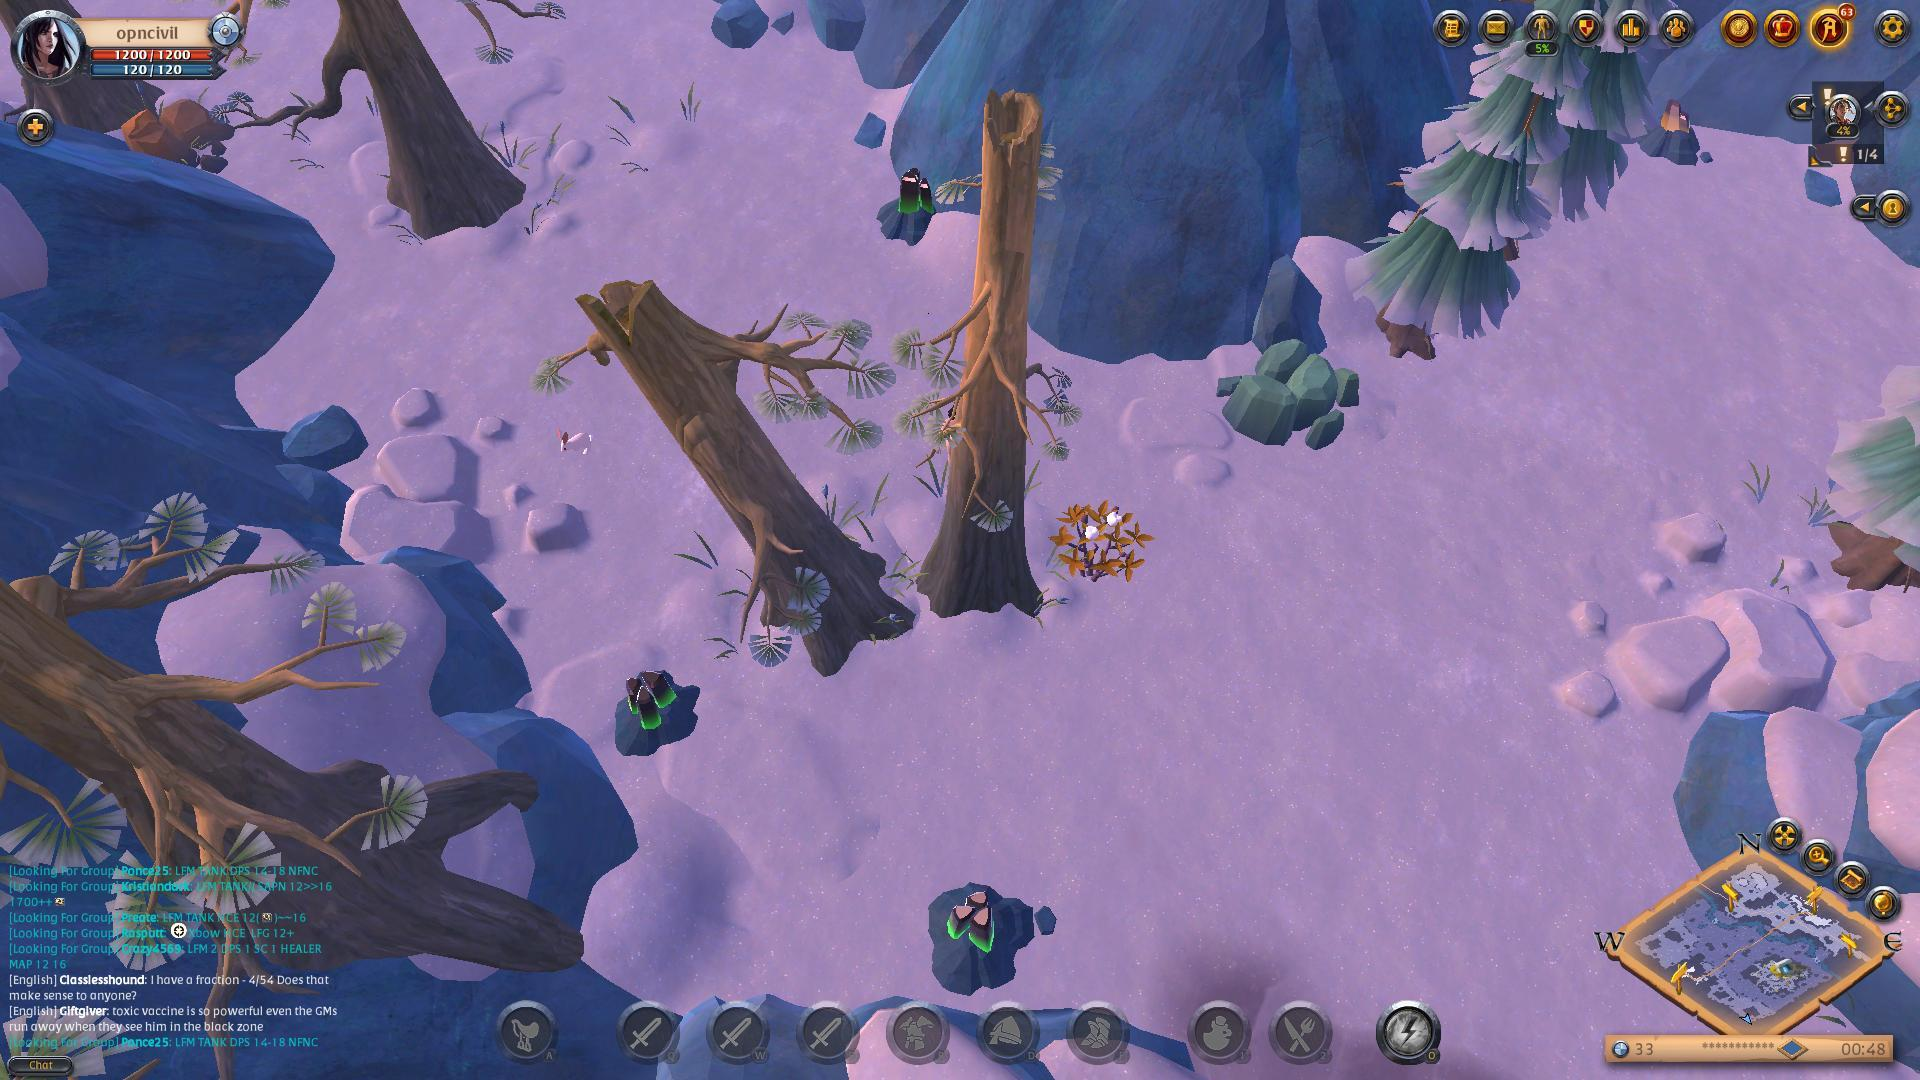copper_ore: (1621, 92, 1724, 166)
cotton: (1048, 495, 1154, 592)
limestone: (115, 96, 243, 170)
sandstone: (1211, 338, 1373, 456)
tin_ore: (914, 889, 1042, 986), (599, 669, 713, 753), (864, 171, 978, 244)
